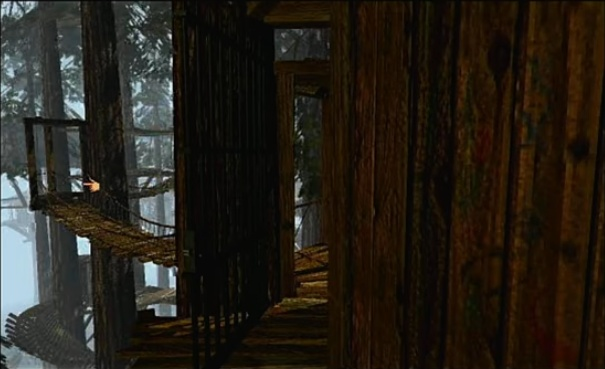Pointer: (81, 174, 103, 194)
